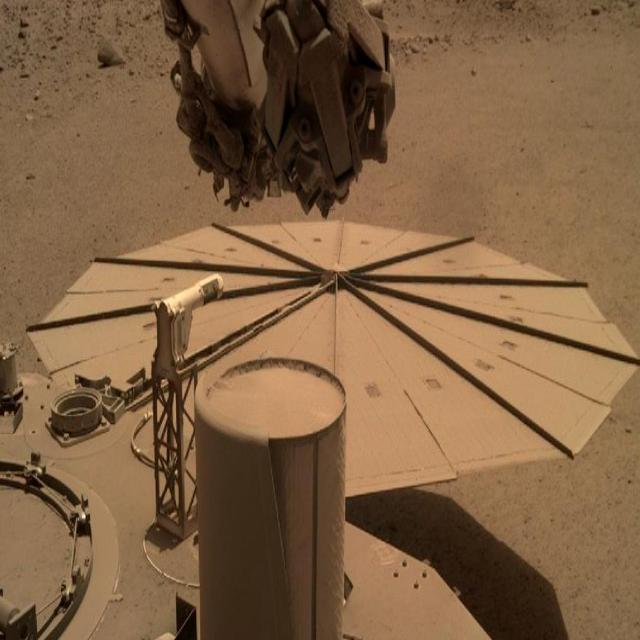dust-solar-panel: (28, 216, 634, 501)
